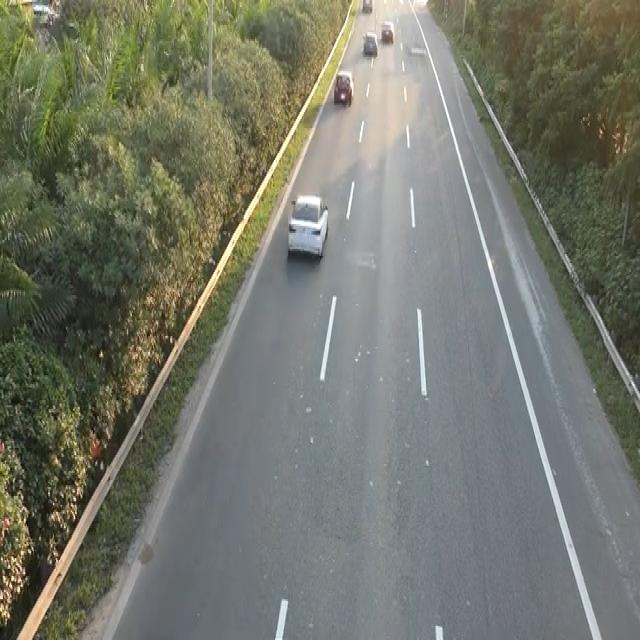bus: (285, 190, 332, 267), (332, 67, 354, 106), (362, 29, 378, 55)
